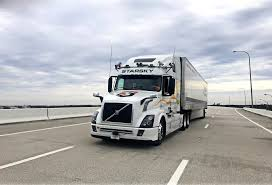truck: (89, 53, 209, 146)
